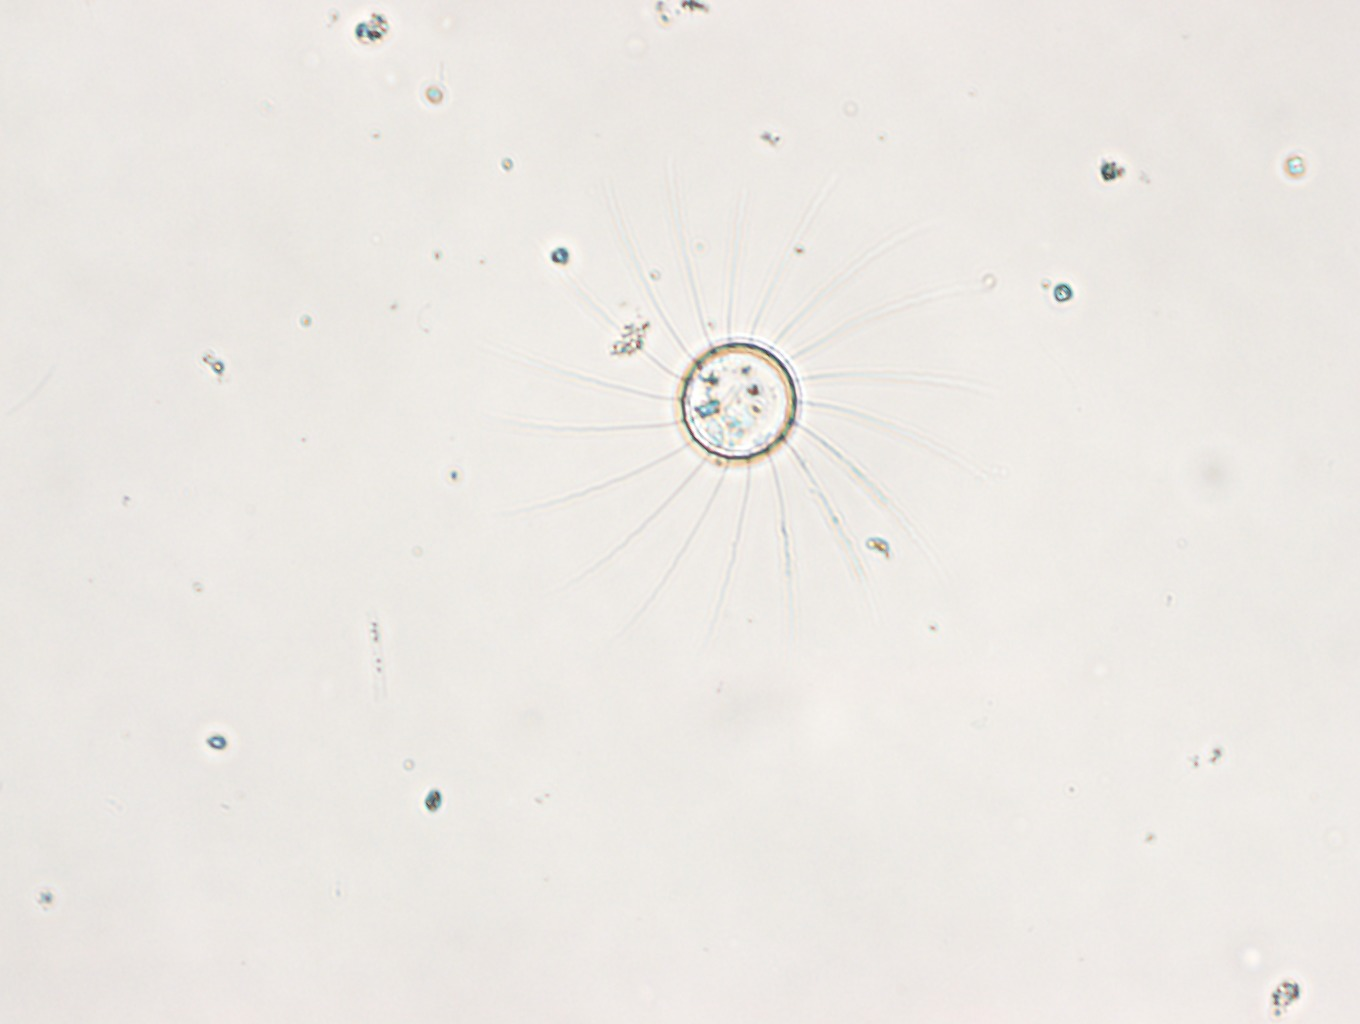bacteriastrum: (485, 156, 994, 644)
